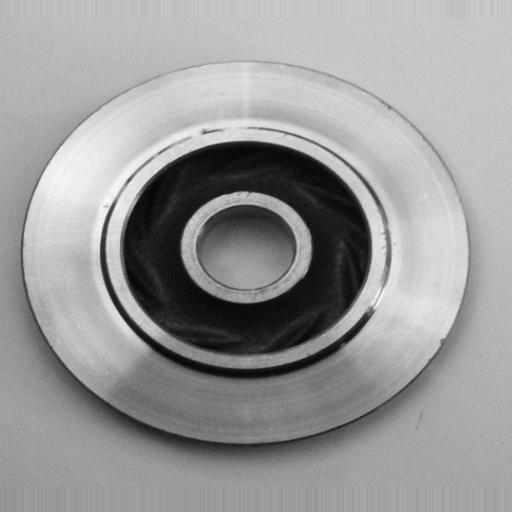scratch: (184, 118, 255, 148)
unpolished_casting: (22, 60, 474, 449)
